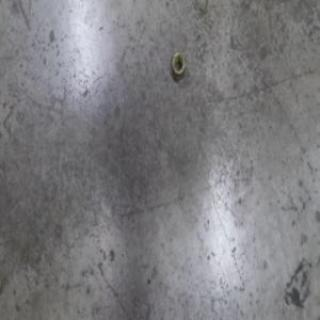Nuttrack_idkeyframe: (170, 50, 186, 83)
